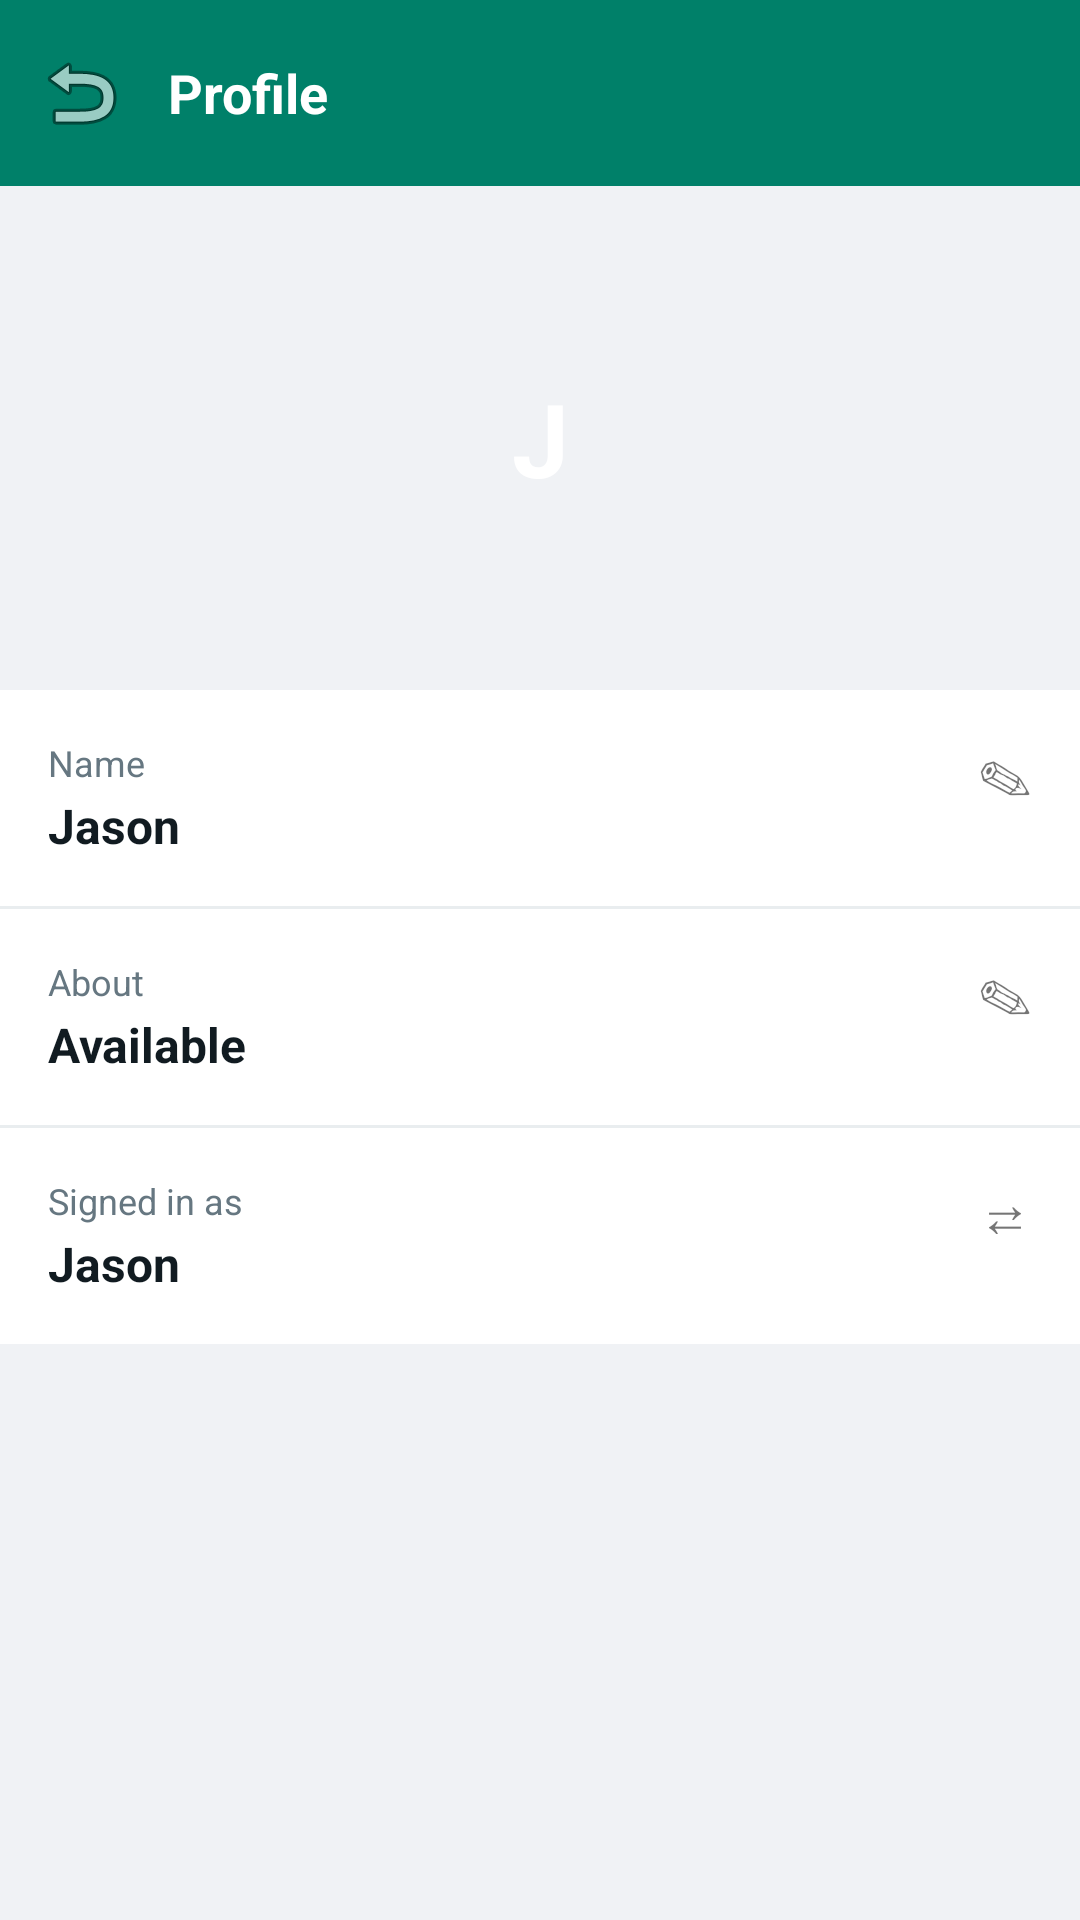

Locate icon controls on the screen. Image size 1080 × 1920, boxes as bbox=[x1, y1, x2, y2].
Back: bbox=[48, 63, 117, 125]
